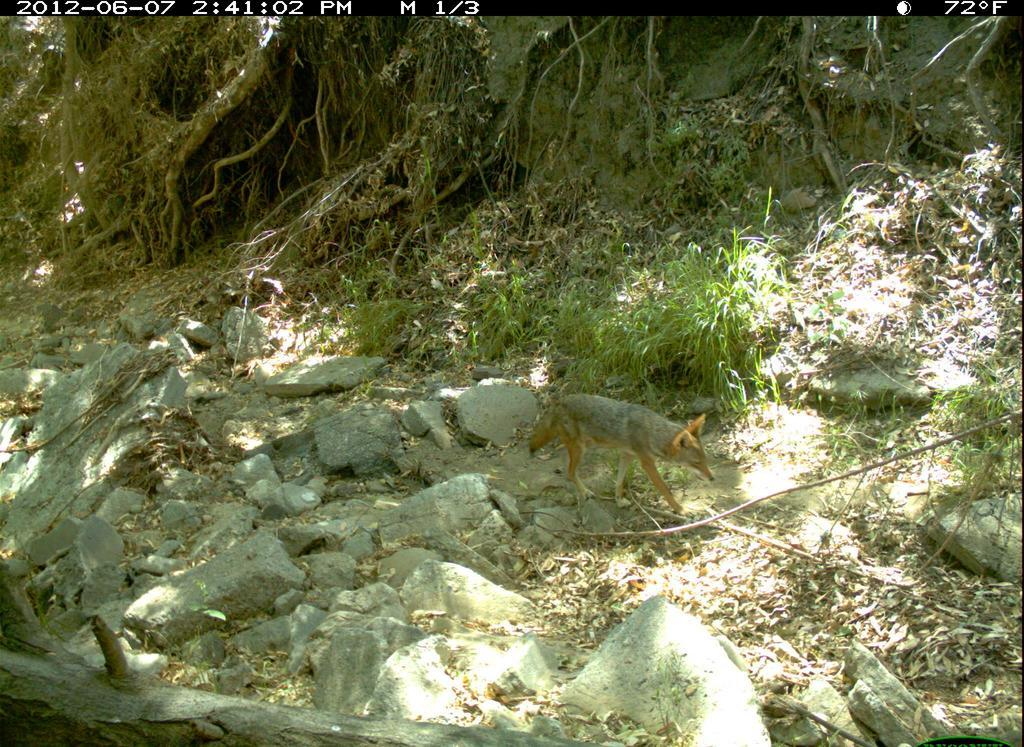coyote: (500, 374, 737, 527)
